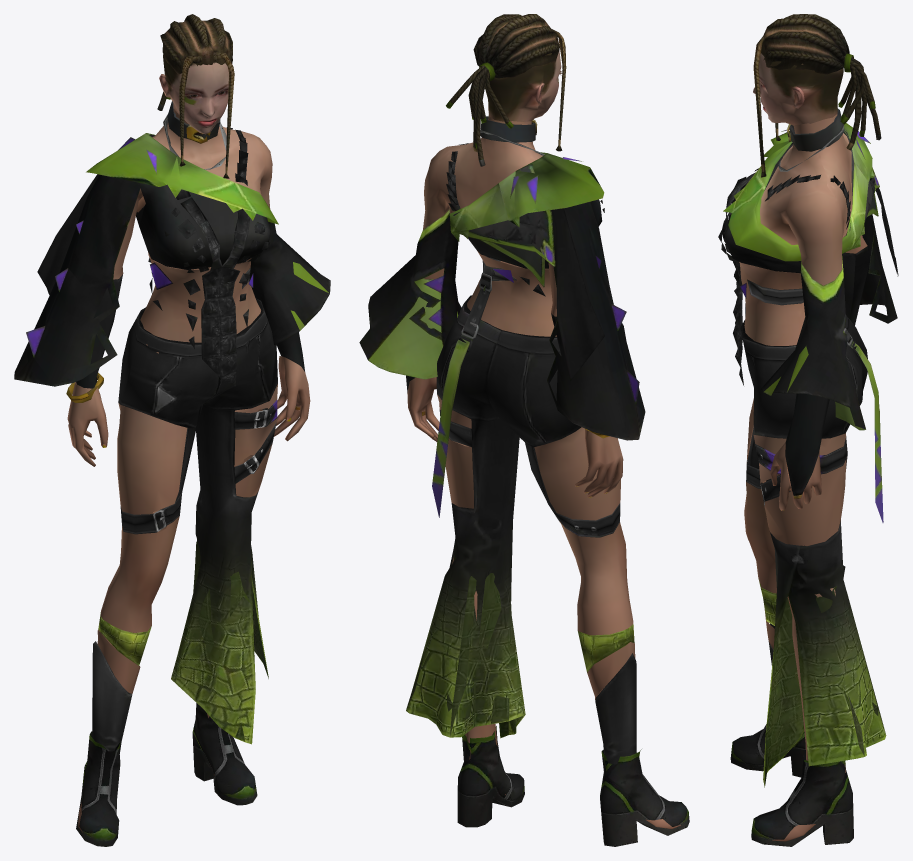
The model's file is ff-green.glb.
The picture shows the model from 3 angles, left to right: view 1: azimuth 30°, elevation 25°; view 2: azimuth 150°, elevation 25°; view 3: azimuth 270°, elevation 25°; orthographic projection. The views are drawn at different scales.
Parts seen in each view (by area): view 1: Object_5, Object_4, Object_2, Object_3, Object_6; view 2: Object_5, Object_4, Object_2, Object_3, Object_6; view 3: Object_4, Object_2, Object_5, Object_3, Object_6.
Part boxes in pixels (x1,y1,x2,y2): Object_5: (14,101,330,447); Object_4: (92,298,277,751); Object_2: (67,54,310,832); Object_3: (76,703,257,846); Object_6: (157,14,234,178); Object_5: (359,116,645,517); Object_4: (406,295,636,764); Object_2: (407,50,680,828); Object_3: (457,726,689,846); Object_6: (446,14,566,166); Object_4: (740,315,886,787); Object_2: (739,53,867,841); Object_5: (718,108,898,522); Object_3: (730,724,853,846); Object_6: (753,14,881,177).
Bounding box in the file's own units: 5.33 × 13.83 × 2.8.
Materials: 5 (5 with a texture image).
